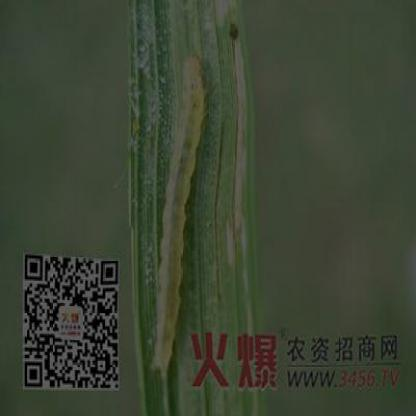leaf-folder: (141, 46, 228, 314)
